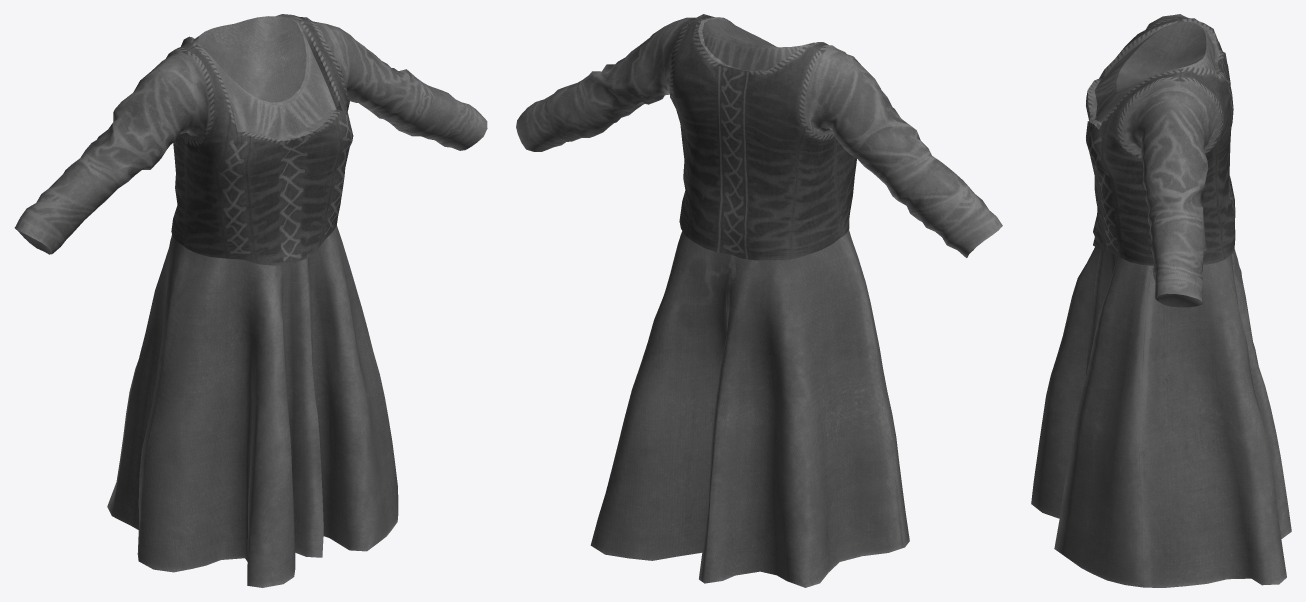
Rendered from sk_dwarf_dress_normal_b.fbx.
3 views of the same model, side by side, from view 1: azimuth 30°, elevation 25°; view 2: azimuth 150°, elevation 25°; view 3: azimuth 270°, elevation 25° (orthographic). The views are drawn at different scales.
Visible parts, largest first — view 1: sk_dwarf_dress_normal_b; view 2: sk_dwarf_dress_normal_b; view 3: sk_dwarf_dress_normal_b.
Boxes of the visible parts, box(x1,y1,x2,y2) form: sk_dwarf_dress_normal_b: box(14, 14, 487, 587); sk_dwarf_dress_normal_b: box(516, 14, 1002, 587); sk_dwarf_dress_normal_b: box(1031, 14, 1291, 587).
Bounding box in the file's own units: 1.21 × 0.5951 × 1.25.
1 material, 1 textured.
